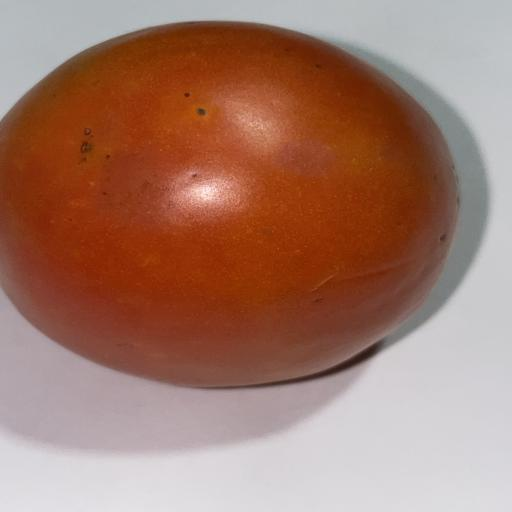ripe: (0, 22, 459, 387)
